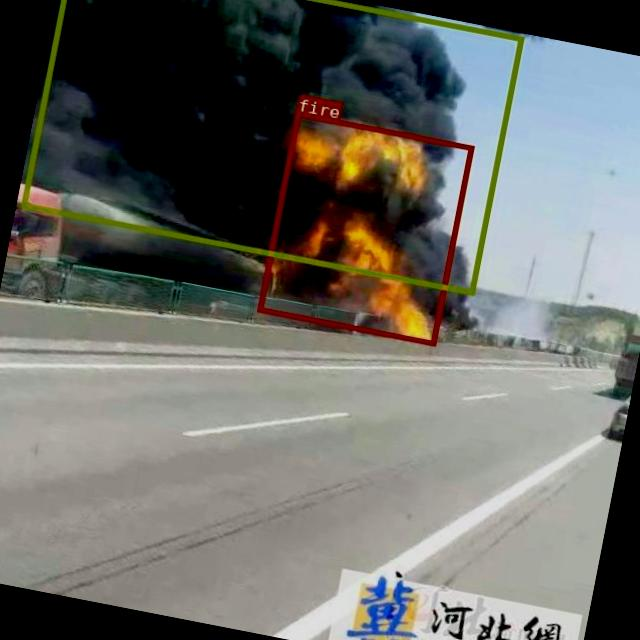fire: (256, 111, 474, 346)
smoke: (20, 0, 523, 294)
